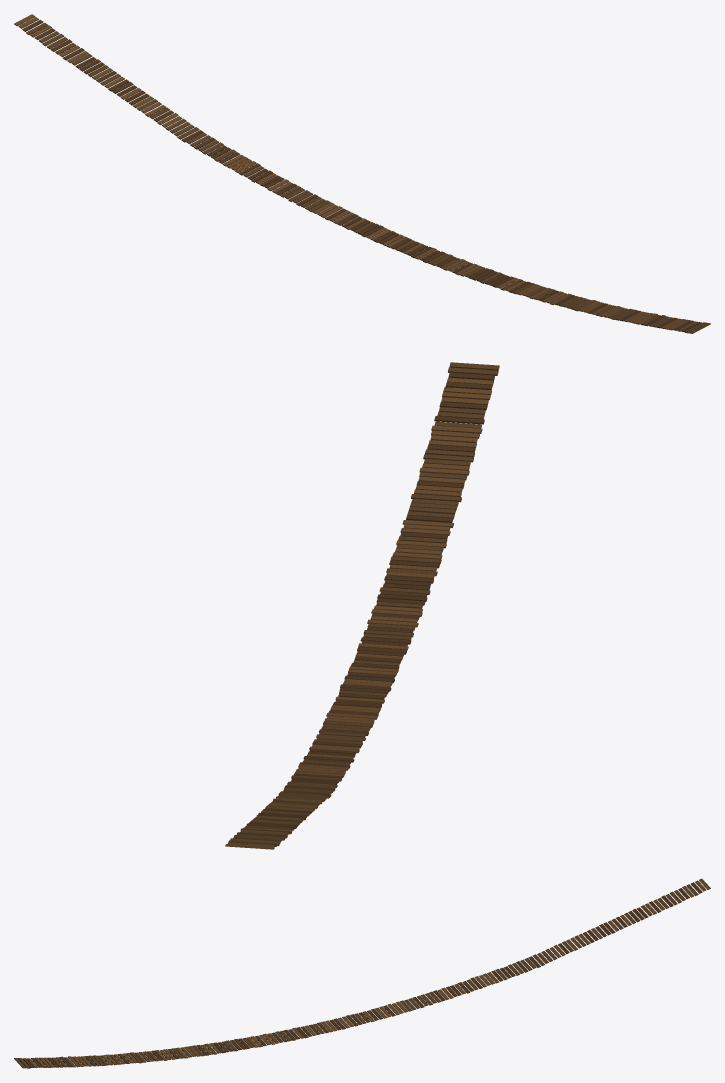
File: SM_Bridge_11_12.fbx
The picture shows the model from 3 angles, top to bottom: view 1: azimuth 30°, elevation 25°; view 2: azimuth 150°, elevation 25°; view 3: azimuth 270°, elevation 25°; orthographic projection. The views are drawn at different scales.
Visible parts, largest first — view 1: SM_Bridge_11_12; view 2: SM_Bridge_11_12; view 3: SM_Bridge_11_12.
Boxes of the visible parts, bbox=[...] form: SM_Bridge_11_12: bbox=[14, 14, 710, 333]; SM_Bridge_11_12: bbox=[225, 362, 499, 849]; SM_Bridge_11_12: bbox=[14, 878, 710, 1068].
Size of the model in its own units: 27.33 by 8.87 by 65.72.
